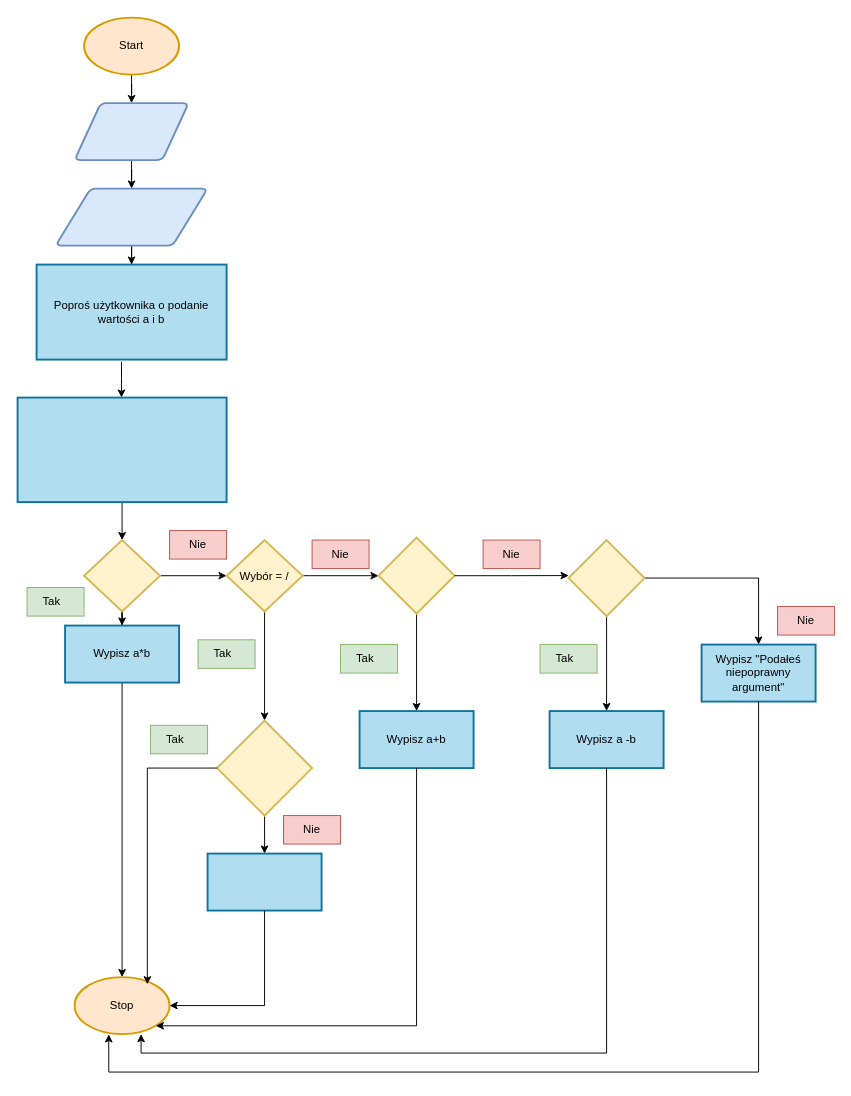
Some shapes in this 851 by 1096 pixel diagram are drawn without their labels. Each missing label, with the centre of its shape:
Czy a lub b są rowne 0?: (x=264, y=767)
Poproś użytkownika o wybranie symbolu operacji +,-,*,/: (x=121, y=449)
Wybór = *: (x=122, y=575)
Wybór = +: (x=416, y=575)
Wybór = -: (x=606, y=578)
Wypisz a/b: (x=264, y=881)
Zmienna a oraz zmienna b: (x=131, y=131)
Zmienna wybór = input("podaj symbol operacji"): (x=131, y=216)
